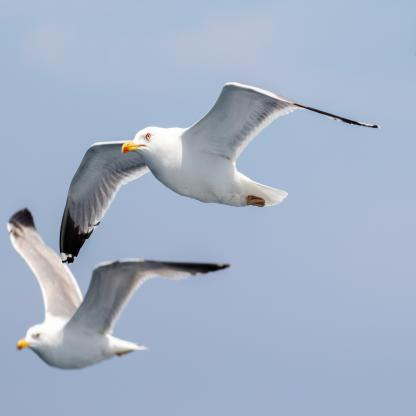bird: (59, 81, 373, 264), (9, 212, 220, 371)
